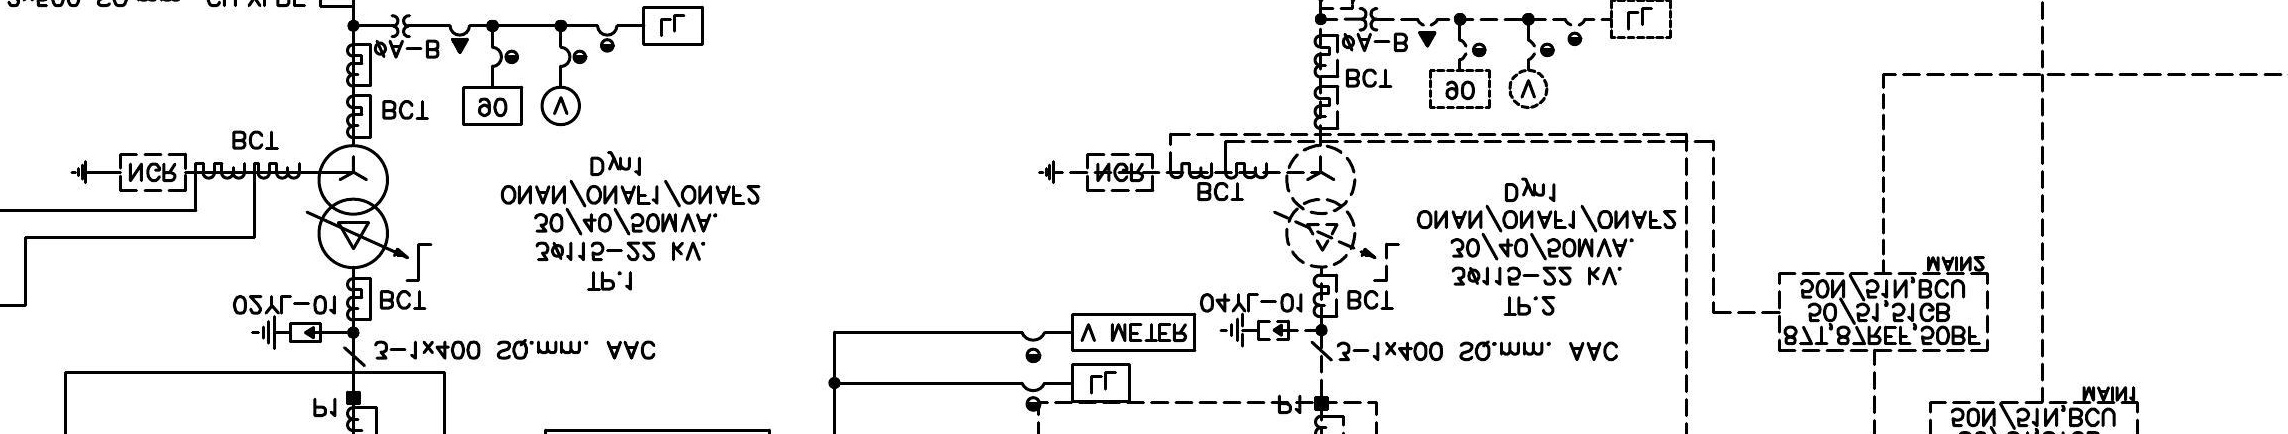11522_tx_dyn1: (317, 143, 390, 270)
115_la: (250, 314, 322, 351)
LL: (641, 6, 705, 47), (1070, 362, 1132, 403)
NGR_future: (70, 152, 188, 193)
v_m: (538, 85, 582, 127)
v_m_digital: (1070, 311, 1197, 354)
